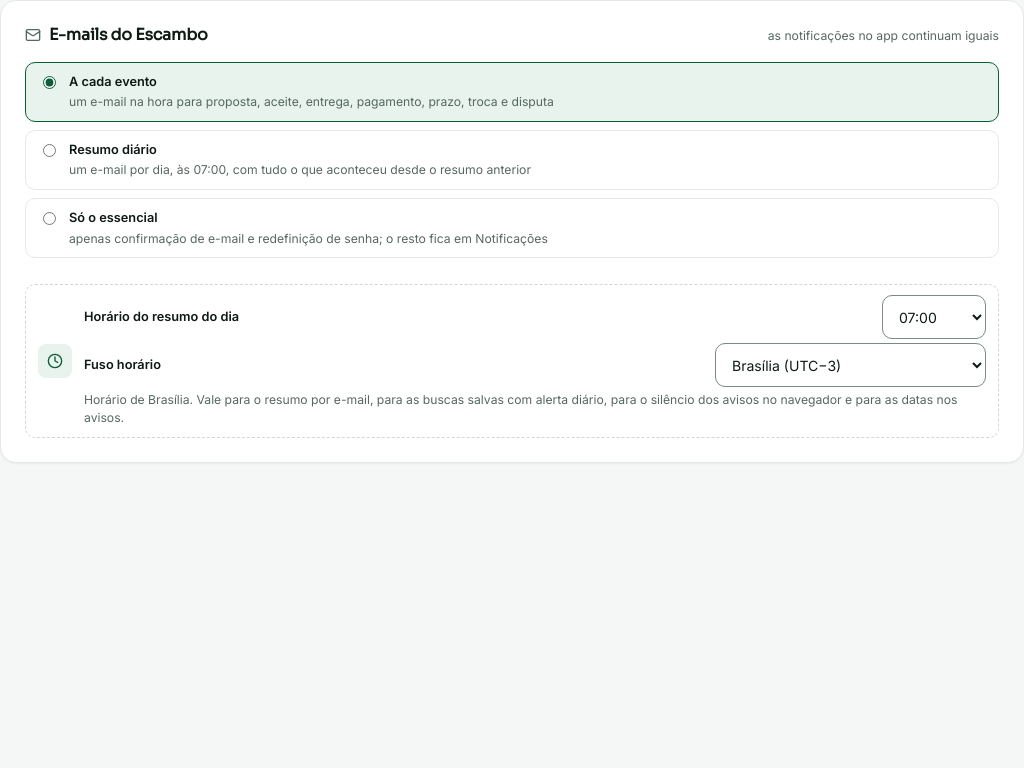
Test: cartão de e-mails: gravar a frequência › resumo diário grava só a frequência, relê a sessão e confirma com a hora do resumo
This screenshot has width=1024, height=768.
Click the radio button labelled "Resumo diário": [50, 150] box [43,144,56,157]
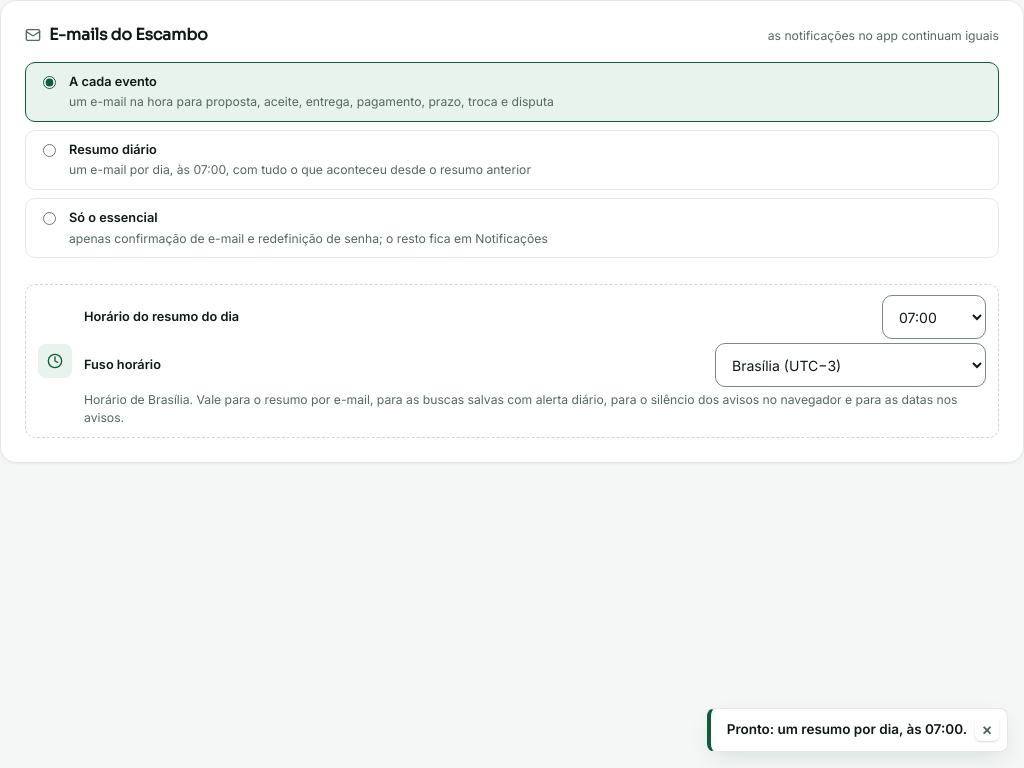
expect the text "Pronto: um resumo por dia, às 07:00." is shown: met, box [727,720,967,740]
